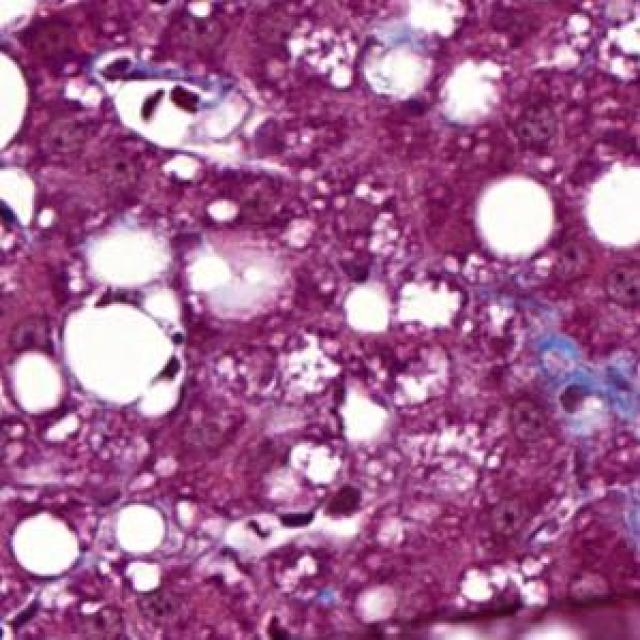steatosis: (56, 289, 197, 426), (462, 176, 548, 261)
